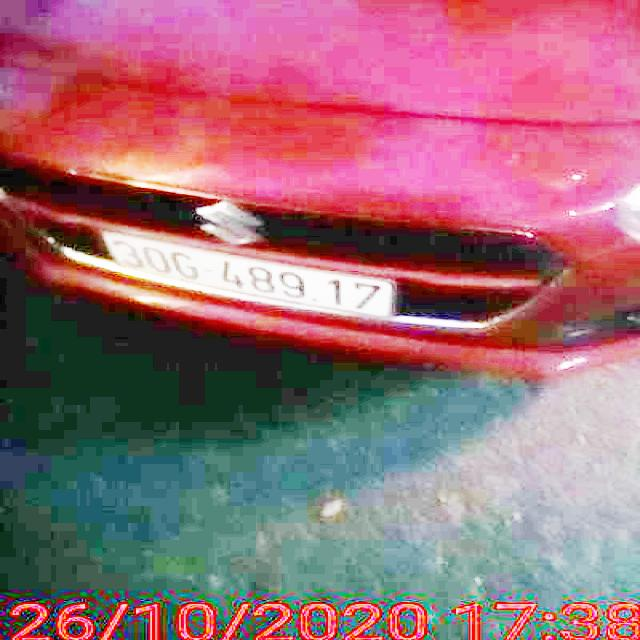license_plate: (108, 234, 390, 318)
